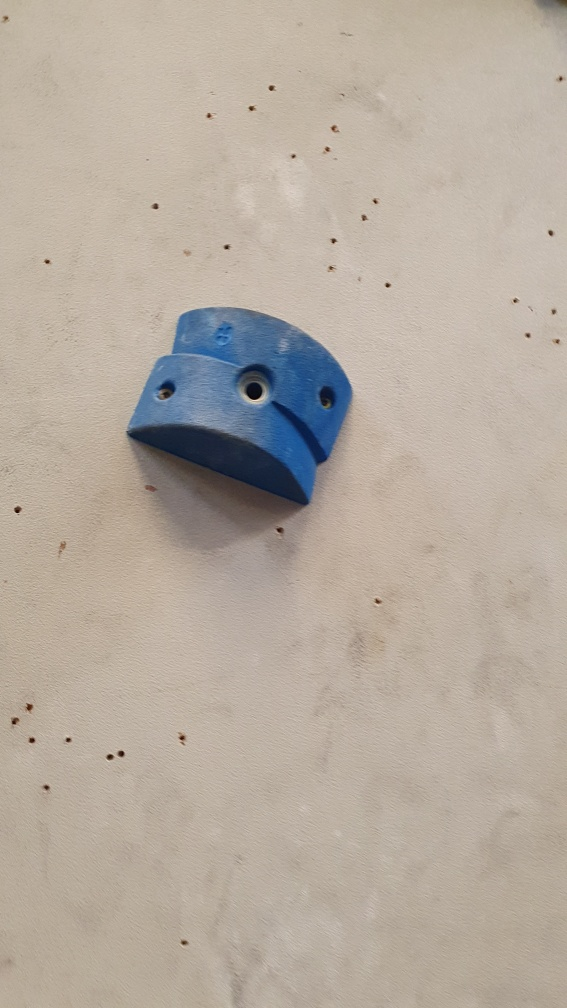Pinch: (120, 296, 352, 512)
